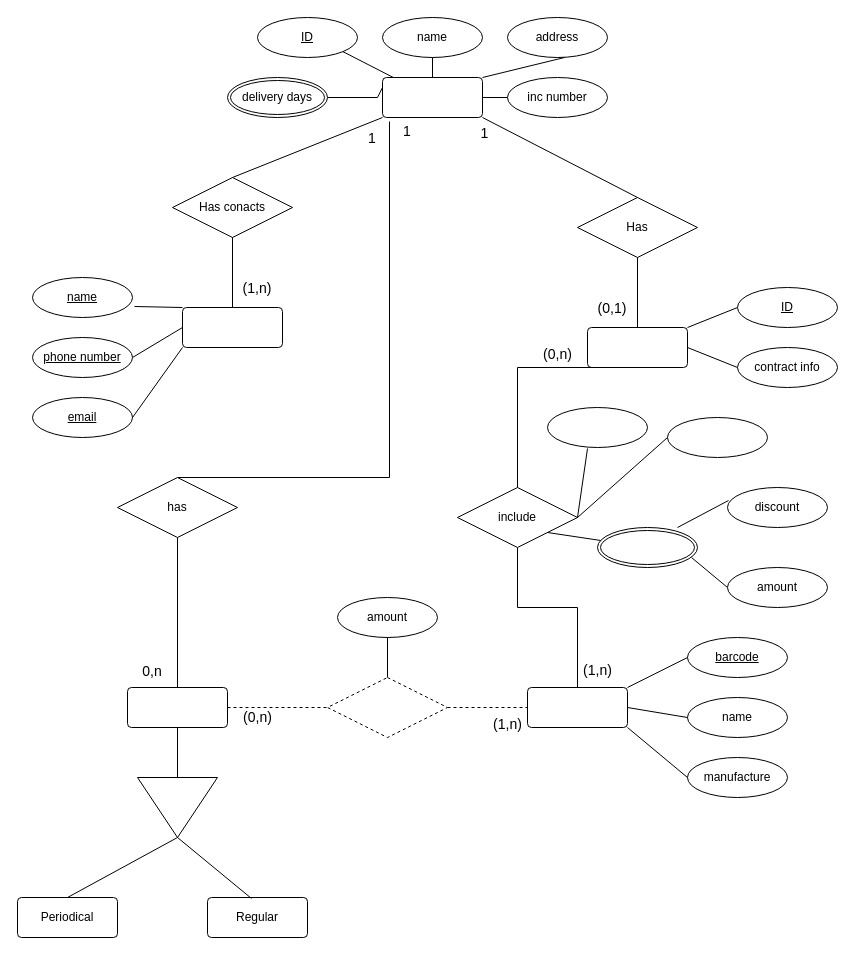
This 855x955 diagram has some shape labels left out. Here are the shapes that lost their labels. From the top down, the centre of each, then its label:
[432,97]: Supplier
[232,327]: contact info
[637,347]: Contract
[597,427]: catalog number
[717,437]: original price
[647,547]: Attribute
[177,707]: Order
[387,707]: Contains
[577,707]: Product
[177,807]: XT
